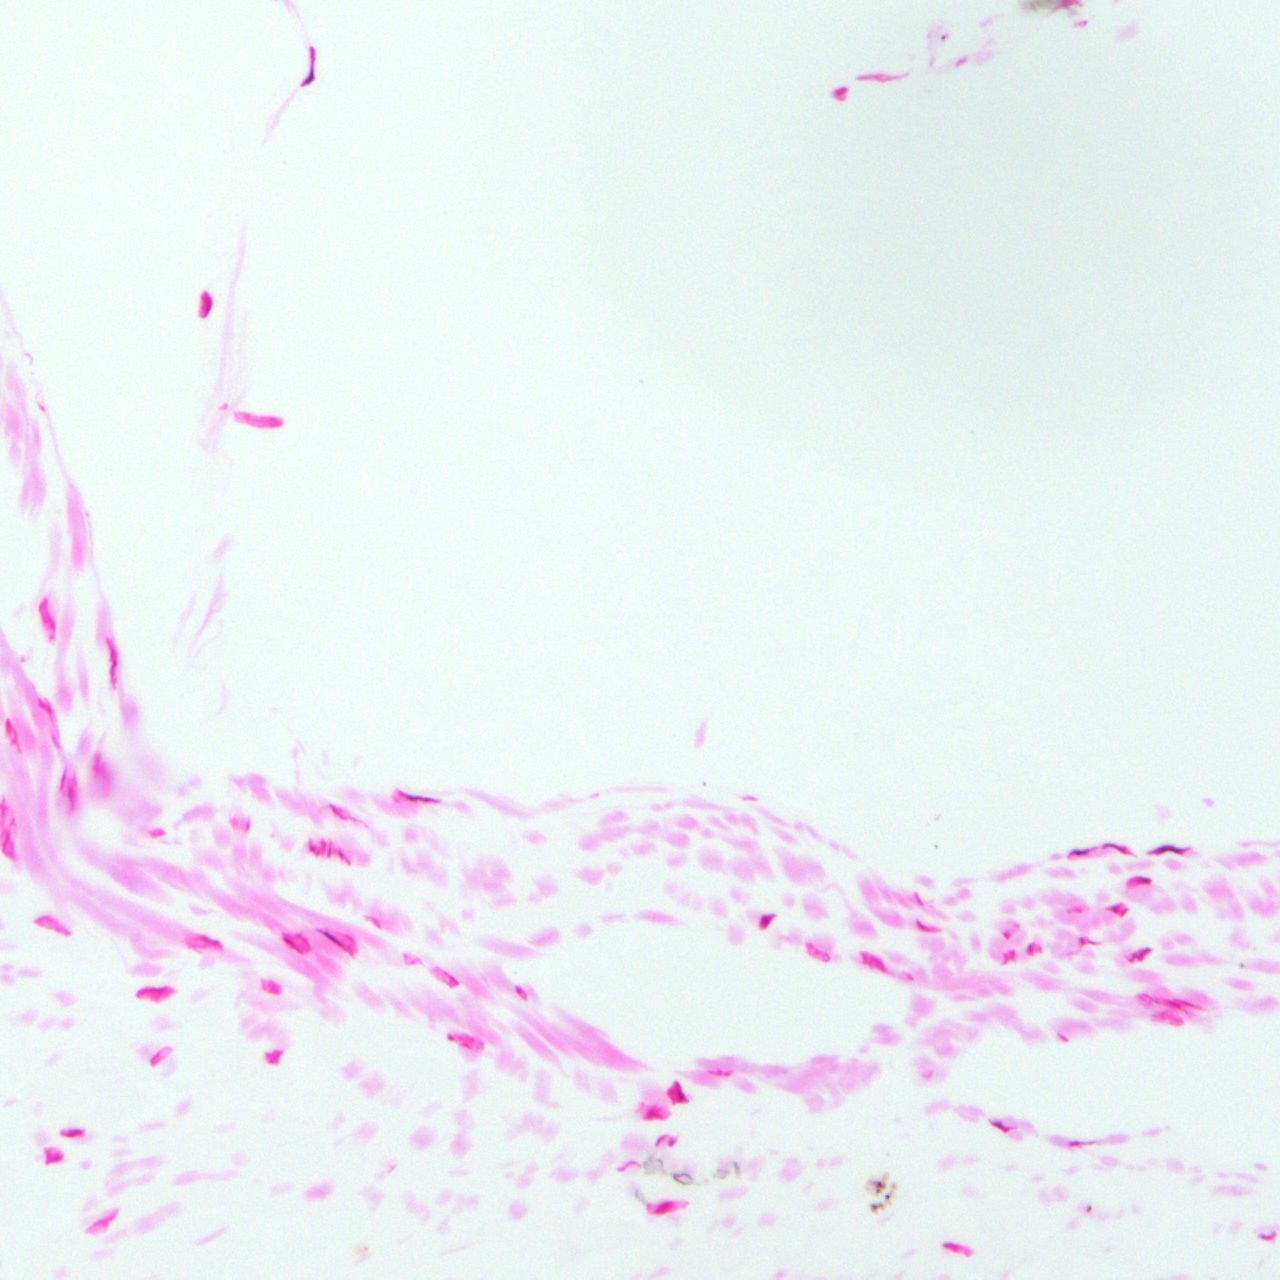dust: (673, 1173, 695, 1186), (733, 1162, 743, 1179), (715, 1168, 729, 1179), (871, 1203, 886, 1213), (631, 1188, 642, 1201), (654, 1158, 665, 1169), (873, 1180, 886, 1188), (883, 1193, 893, 1201), (865, 1187, 873, 1195), (1086, 1205, 1092, 1214), (891, 1183, 897, 1190), (1239, 961, 1244, 969), (874, 1189, 881, 1194), (933, 844, 939, 848), (941, 34, 945, 40), (702, 782, 706, 786)
nucleus-FG: (298, 46, 323, 89), (33, 913, 72, 935), (103, 637, 120, 682), (318, 927, 347, 950), (36, 599, 56, 632), (401, 792, 438, 805), (1102, 840, 1132, 855), (1147, 844, 1188, 854), (196, 934, 223, 948), (988, 1118, 1010, 1134), (283, 937, 302, 955), (1067, 845, 1095, 857), (672, 1081, 687, 1103), (870, 954, 886, 973), (617, 1159, 639, 1172), (329, 803, 344, 821), (757, 912, 772, 930), (60, 1126, 84, 1137), (336, 849, 352, 865), (58, 767, 68, 791), (653, 1201, 672, 1213), (140, 986, 172, 993), (941, 1241, 961, 1252), (1108, 906, 1128, 917), (832, 85, 848, 98), (43, 1155, 65, 1164), (643, 1109, 662, 1119), (1176, 998, 1195, 1008), (268, 1050, 281, 1064), (444, 972, 459, 984), (1140, 991, 1156, 1002), (654, 1131, 667, 1144), (707, 1069, 734, 1075), (1069, 1140, 1096, 1146), (203, 301, 213, 317), (1056, 1032, 1070, 1043), (38, 702, 53, 712), (915, 920, 928, 931), (1167, 999, 1181, 1009), (4, 718, 11, 733), (1259, 1233, 1272, 1240), (1026, 943, 1033, 956), (327, 840, 332, 858), (1139, 876, 1151, 883), (459, 1042, 471, 1048), (308, 846, 316, 854), (1136, 953, 1143, 962), (1143, 946, 1151, 953), (516, 985, 521, 995), (447, 1034, 455, 1040), (668, 1140, 675, 1146), (1003, 932, 1009, 939), (1079, 937, 1084, 944)
